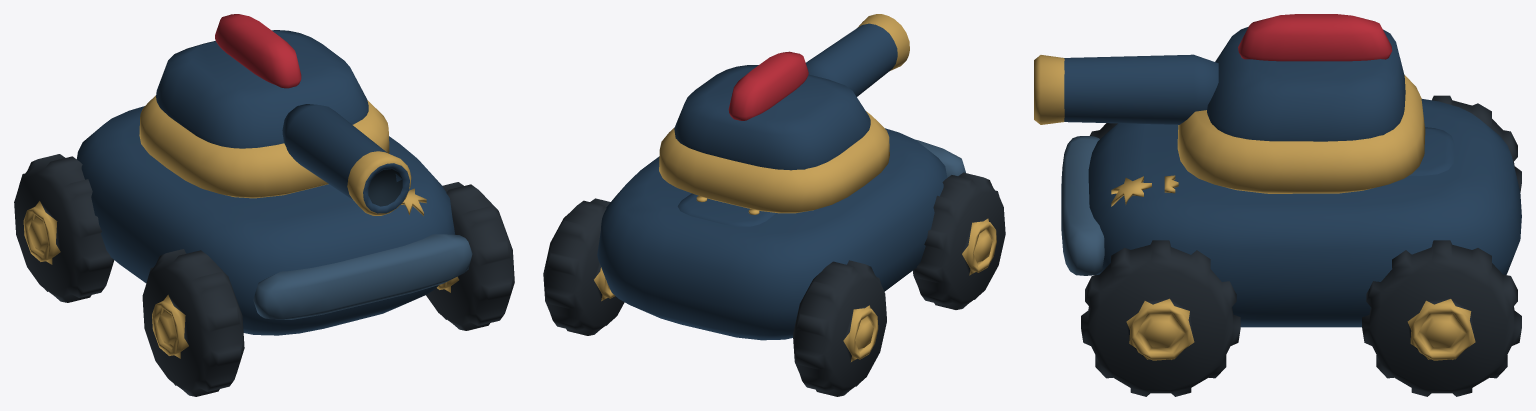
Rendered from TOY_HAZEL.lo.glb.
The picture shows the model from 3 angles, left to right: view 1: azimuth 30°, elevation 25°; view 2: azimuth 150°, elevation 25°; view 3: azimuth 270°, elevation 25°; orthographic projection. The views are drawn at different scales.
Visible parts, largest first — view 1: Body, TurretYaw, WheelsFront, WheelsRear, BarrelRecoil; view 2: Body, TurretYaw, WheelsRear, WheelsFront, BarrelRecoil; view 3: Body, TurretYaw, WheelsRear, WheelsFront, BarrelRecoil.
Boxes of the visible parts, left/top/right/bottom form: Body: left=77, top=106, right=472, bottom=335; TurretYaw: left=139, top=14, right=389, bottom=198; WheelsFront: left=142, top=182, right=514, bottom=396; WheelsRear: left=14, top=154, right=114, bottom=302; BarrelRecoil: left=282, top=104, right=411, bottom=215; Body: left=597, top=128, right=965, bottom=340; TurretYaw: left=659, top=51, right=889, bottom=213; WheelsRear: left=543, top=198, right=886, bottom=396; WheelsFront: left=913, top=172, right=1005, bottom=309; BarrelRecoil: left=806, top=14, right=909, bottom=96; Body: left=1061, top=99, right=1521, bottom=327; TurretYaw: left=1177, top=14, right=1425, bottom=193; WheelsRear: left=1362, top=95, right=1521, bottom=396; WheelsFront: left=1081, top=123, right=1240, bottom=396; BarrelRecoil: left=1034, top=54, right=1218, bottom=124.
Size of the model in its own units: 0.7551 by 0.6 by 0.885.
